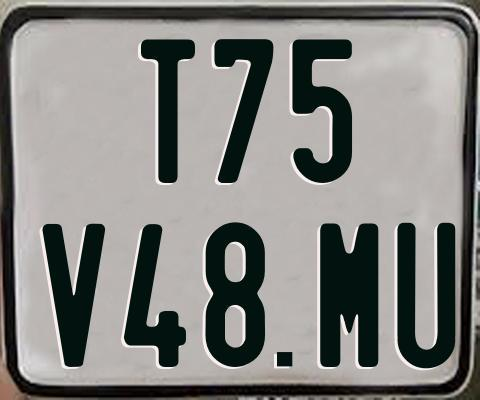4: (124, 221, 186, 364)
5: (290, 39, 352, 185)
7: (214, 38, 275, 183)
8: (203, 221, 267, 371)
M: (317, 221, 379, 369)
T: (141, 38, 197, 187)
U: (397, 221, 457, 371)
V: (41, 224, 104, 370)
